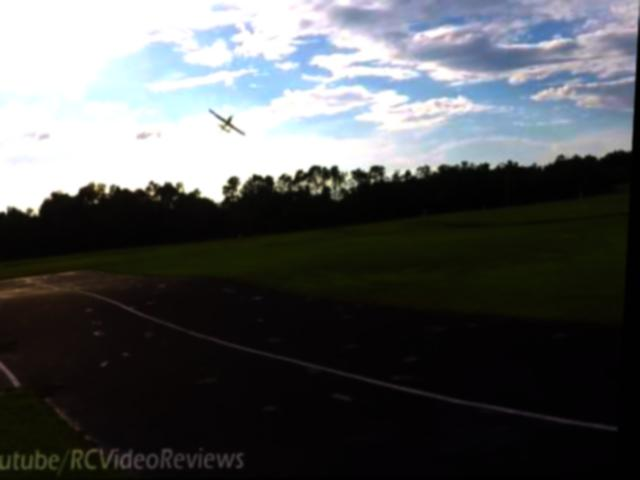uav: (202, 99, 252, 147)
